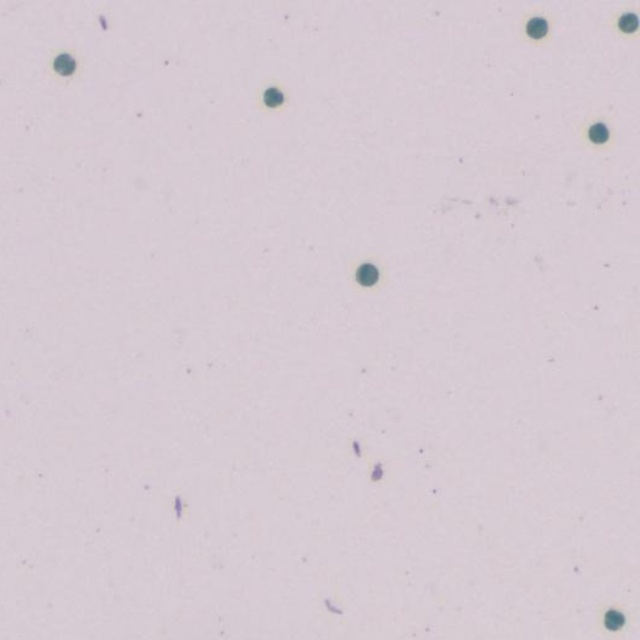non_viable: (52, 52, 76, 76), (355, 262, 379, 286), (525, 17, 547, 39), (618, 12, 639, 33), (588, 122, 608, 143), (603, 610, 624, 630), (263, 87, 283, 107)
